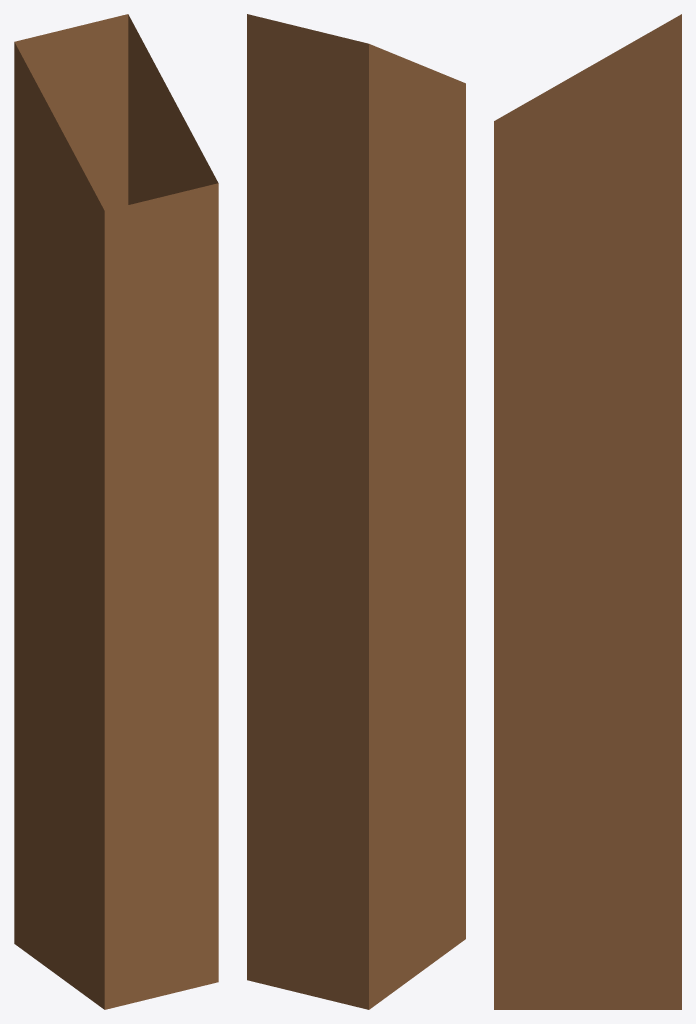
File: YakkisobaPannel_Wood1.fbx
3 views of the same model, side by side, from view 1: azimuth 30°, elevation 25°; view 2: azimuth 150°, elevation 25°; view 3: azimuth 270°, elevation 25° (orthographic). The views are drawn at different scales.
Parts seen in each view (by area): view 1: 큐브.002; view 2: 큐브.002; view 3: 큐브.002.
Part boxes in pixels (x1,y1,x2,y2): 큐브.002: [14, 14, 218, 1009]; 큐브.002: [247, 14, 465, 1009]; 큐브.002: [494, 14, 681, 1009].
Bounding box in the file's own units: 16.86 × 128 × 23.16.
